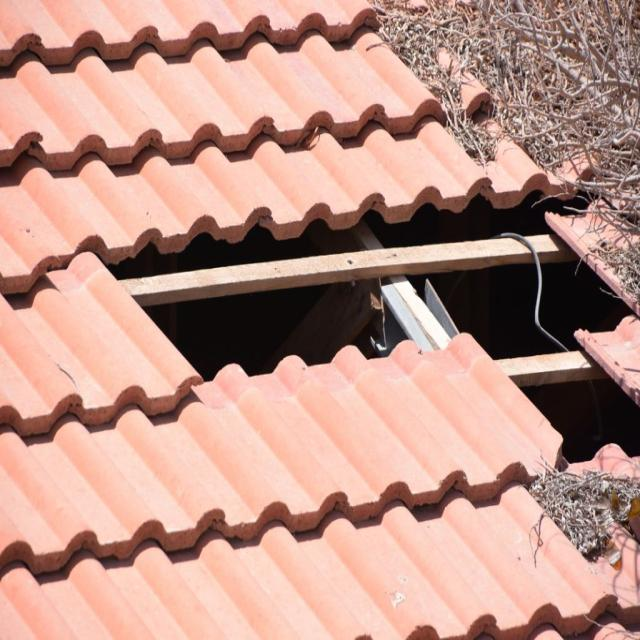damage: (91, 147, 640, 473)
